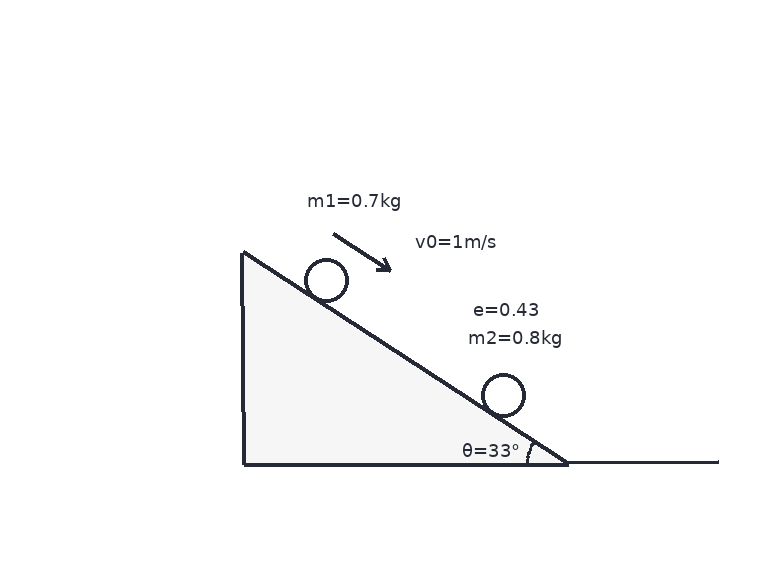ball: (302, 256, 350, 304), (479, 371, 527, 419)
ramp: (240, 250, 569, 465)
